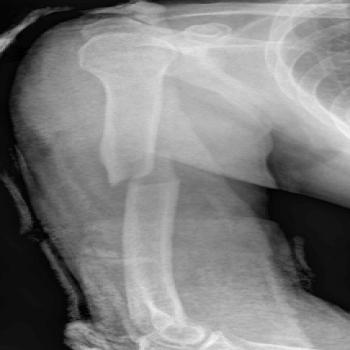Fracture: (92, 162, 204, 197)
